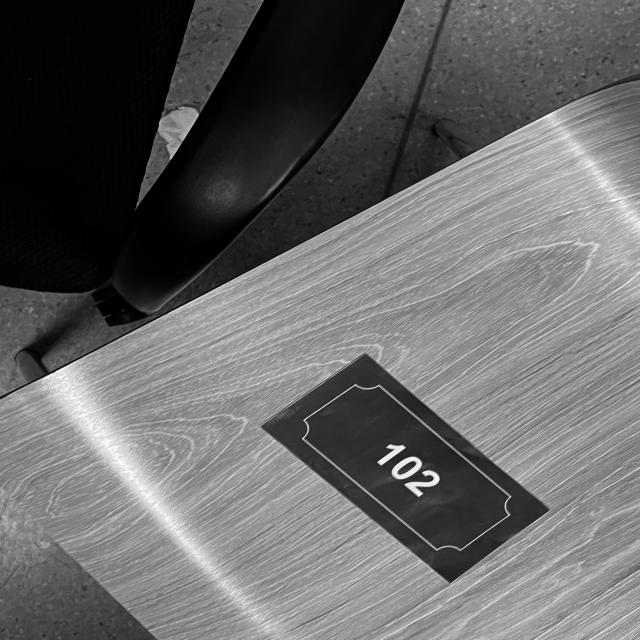Card: (239, 323, 568, 620)
